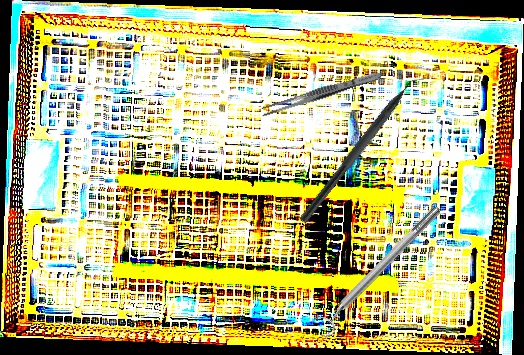Chopper: (298, 63, 434, 233)
Dressing Forceps: (259, 68, 385, 119)
Fixation Ring: (307, 199, 450, 342)
